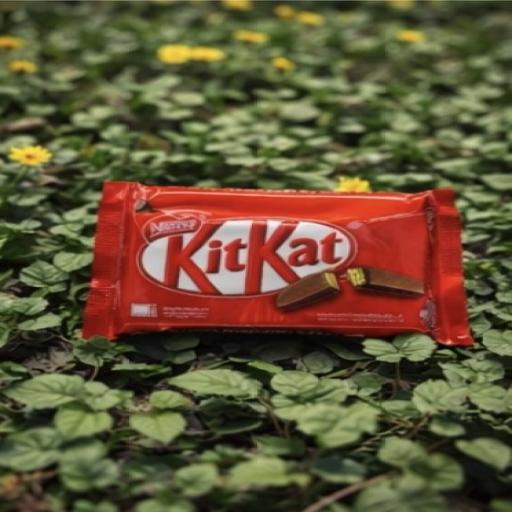kitkat: (43, 147, 512, 392)
